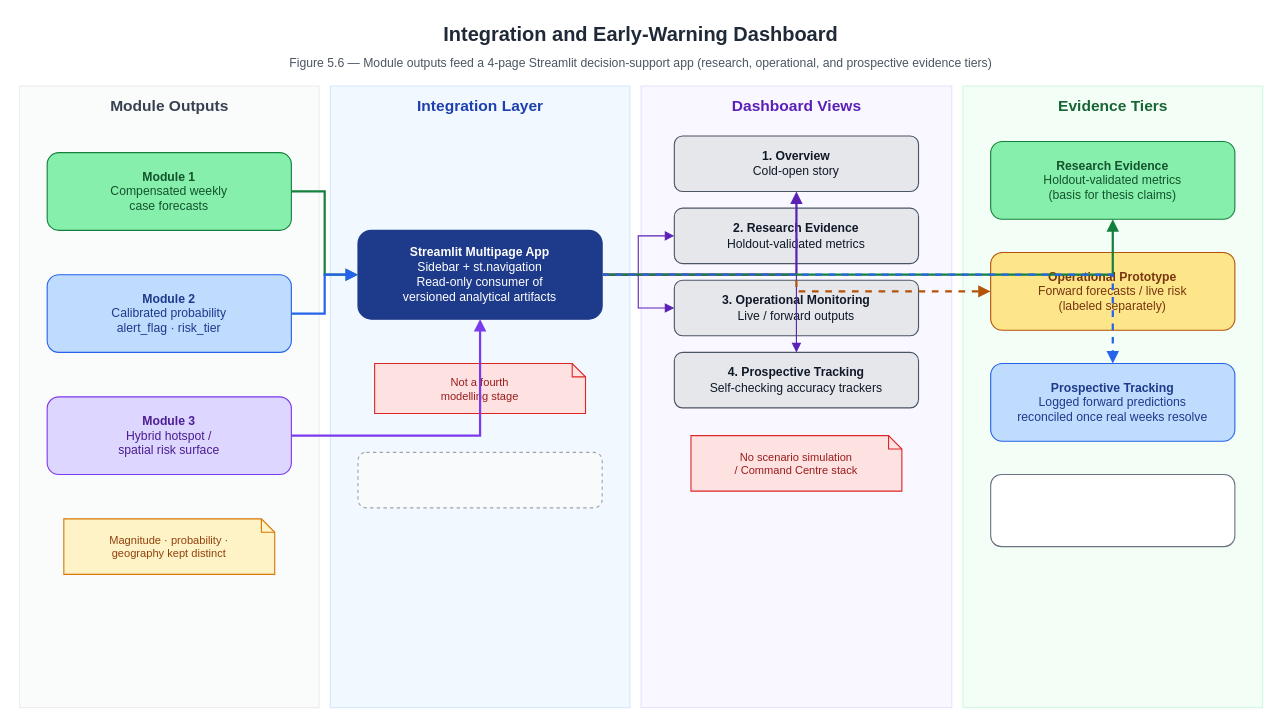
Image size: 1282x727. Some labels were removed from this diagram. The shapes that lost their labels are listed below. From the top down, each one's box as (x1, y1, x2, y2) in pixels, then its label:
(357, 451, 602, 508): M1 → M2 lag substitution: operational forward only
(990, 473, 1235, 547): Intended users Public health analysts (decision support)
